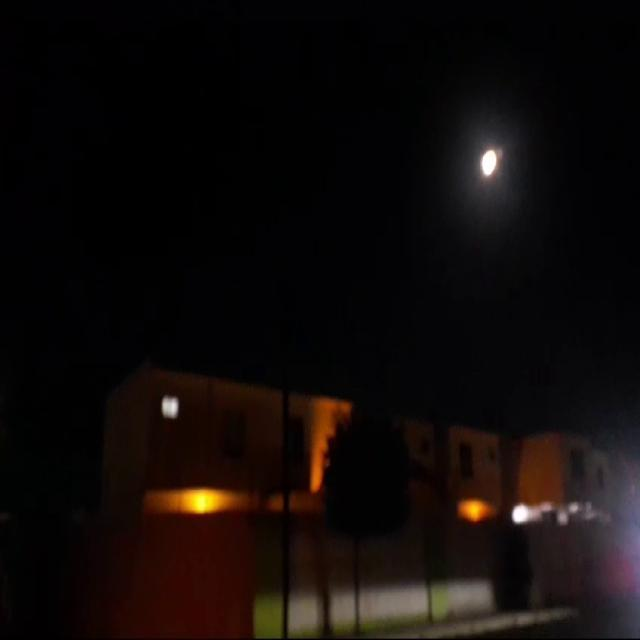moon: (477, 134, 497, 168)
